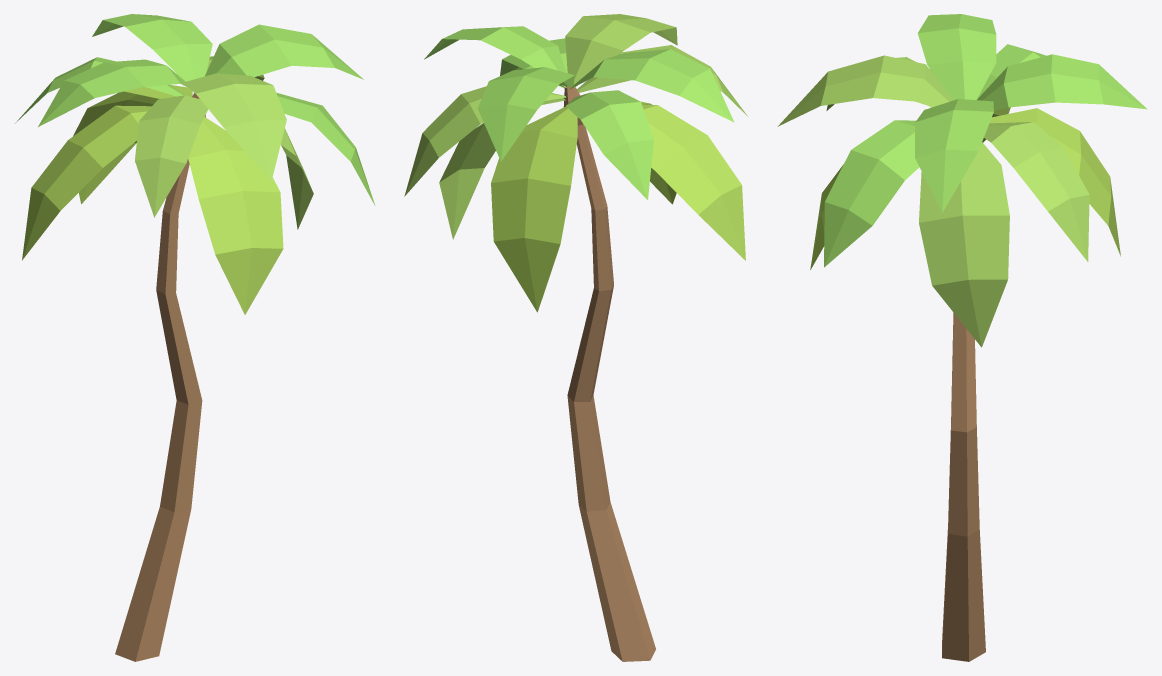
The model's file is Palm_Tree_l_04.fbx.
The picture shows the model from 3 angles, left to right: view 1: azimuth 30°, elevation 25°; view 2: azimuth 150°, elevation 25°; view 3: azimuth 270°, elevation 25°; orthographic projection. The views are drawn at different scales.
Parts seen in each view (by area): view 1: Palm_Tree_l_04; view 2: Palm_Tree_l_04; view 3: Palm_Tree_l_04.
Boxes of the visible parts, bbox=[...] form: Palm_Tree_l_04: bbox=[15, 14, 375, 661]; Palm_Tree_l_04: bbox=[404, 14, 747, 661]; Palm_Tree_l_04: bbox=[777, 14, 1147, 661].
Size of the model in its own units: 475 by 809 by 440.
